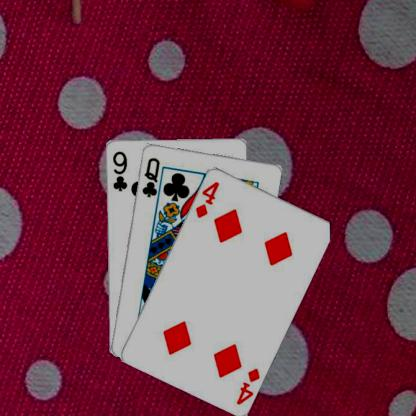4D: (192, 178, 221, 219), (233, 365, 261, 406)
9C: (109, 148, 128, 192)
QC: (139, 154, 161, 198)
